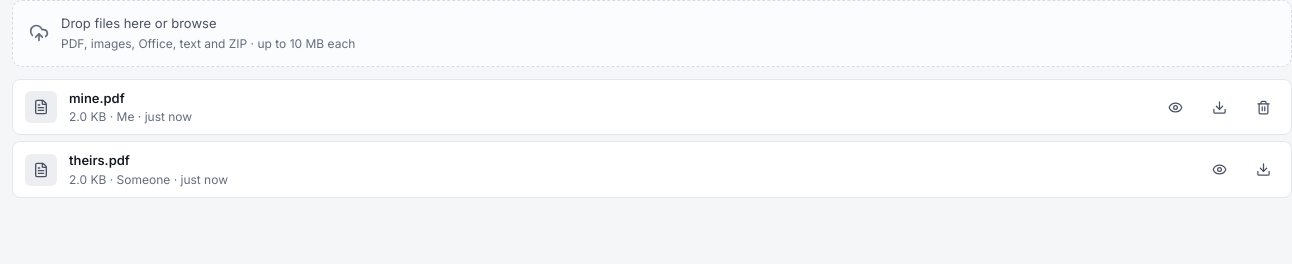
Test: AttachmentsPanel › downloads through the API and shows server errors
What coordinates should you click on to do the following:
click the button named "Download mine.pdf"
I would click on:
 (1219, 107)
Its box is [1203,91,1235,123].
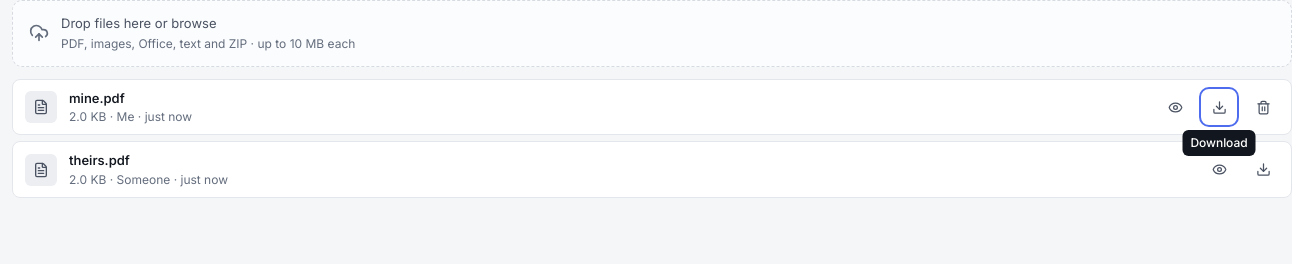
What coordinates should you click on to do the following:
click the button named "Download theirs.pdf"
I would click on:
 (1263, 170)
Its box is [1247,154,1279,186].
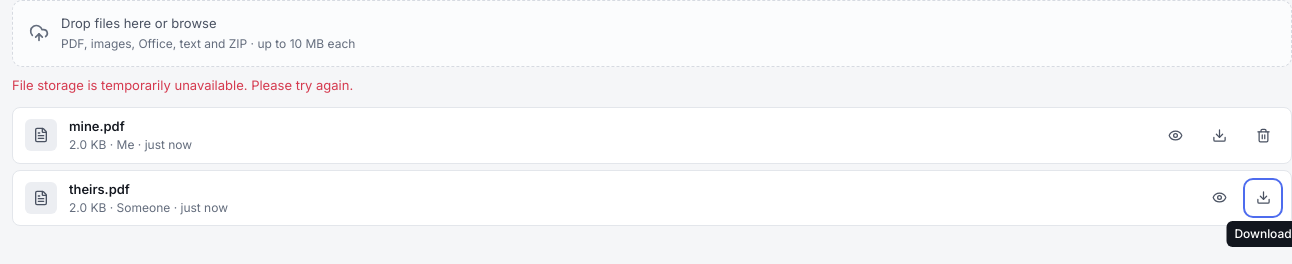
Result: the text "File storage is temporarily unavailable. Please try again." is shown at [12,77,353,93]
